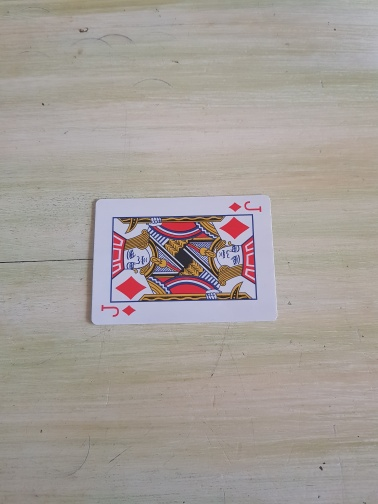jack: (90, 193, 279, 327)
